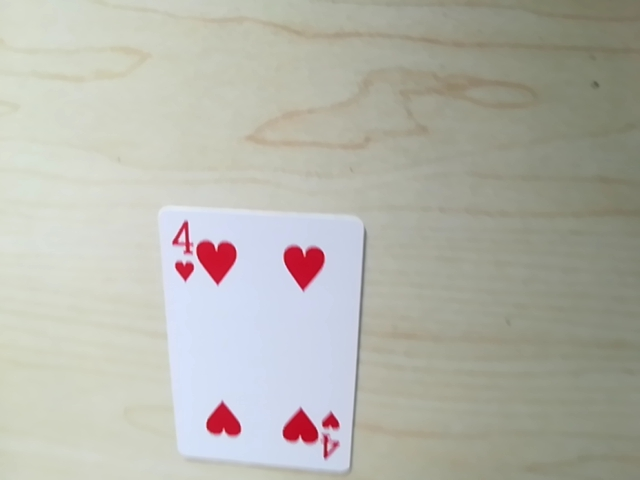hx 4: (187, 399, 338, 462), (310, 402, 345, 467)
